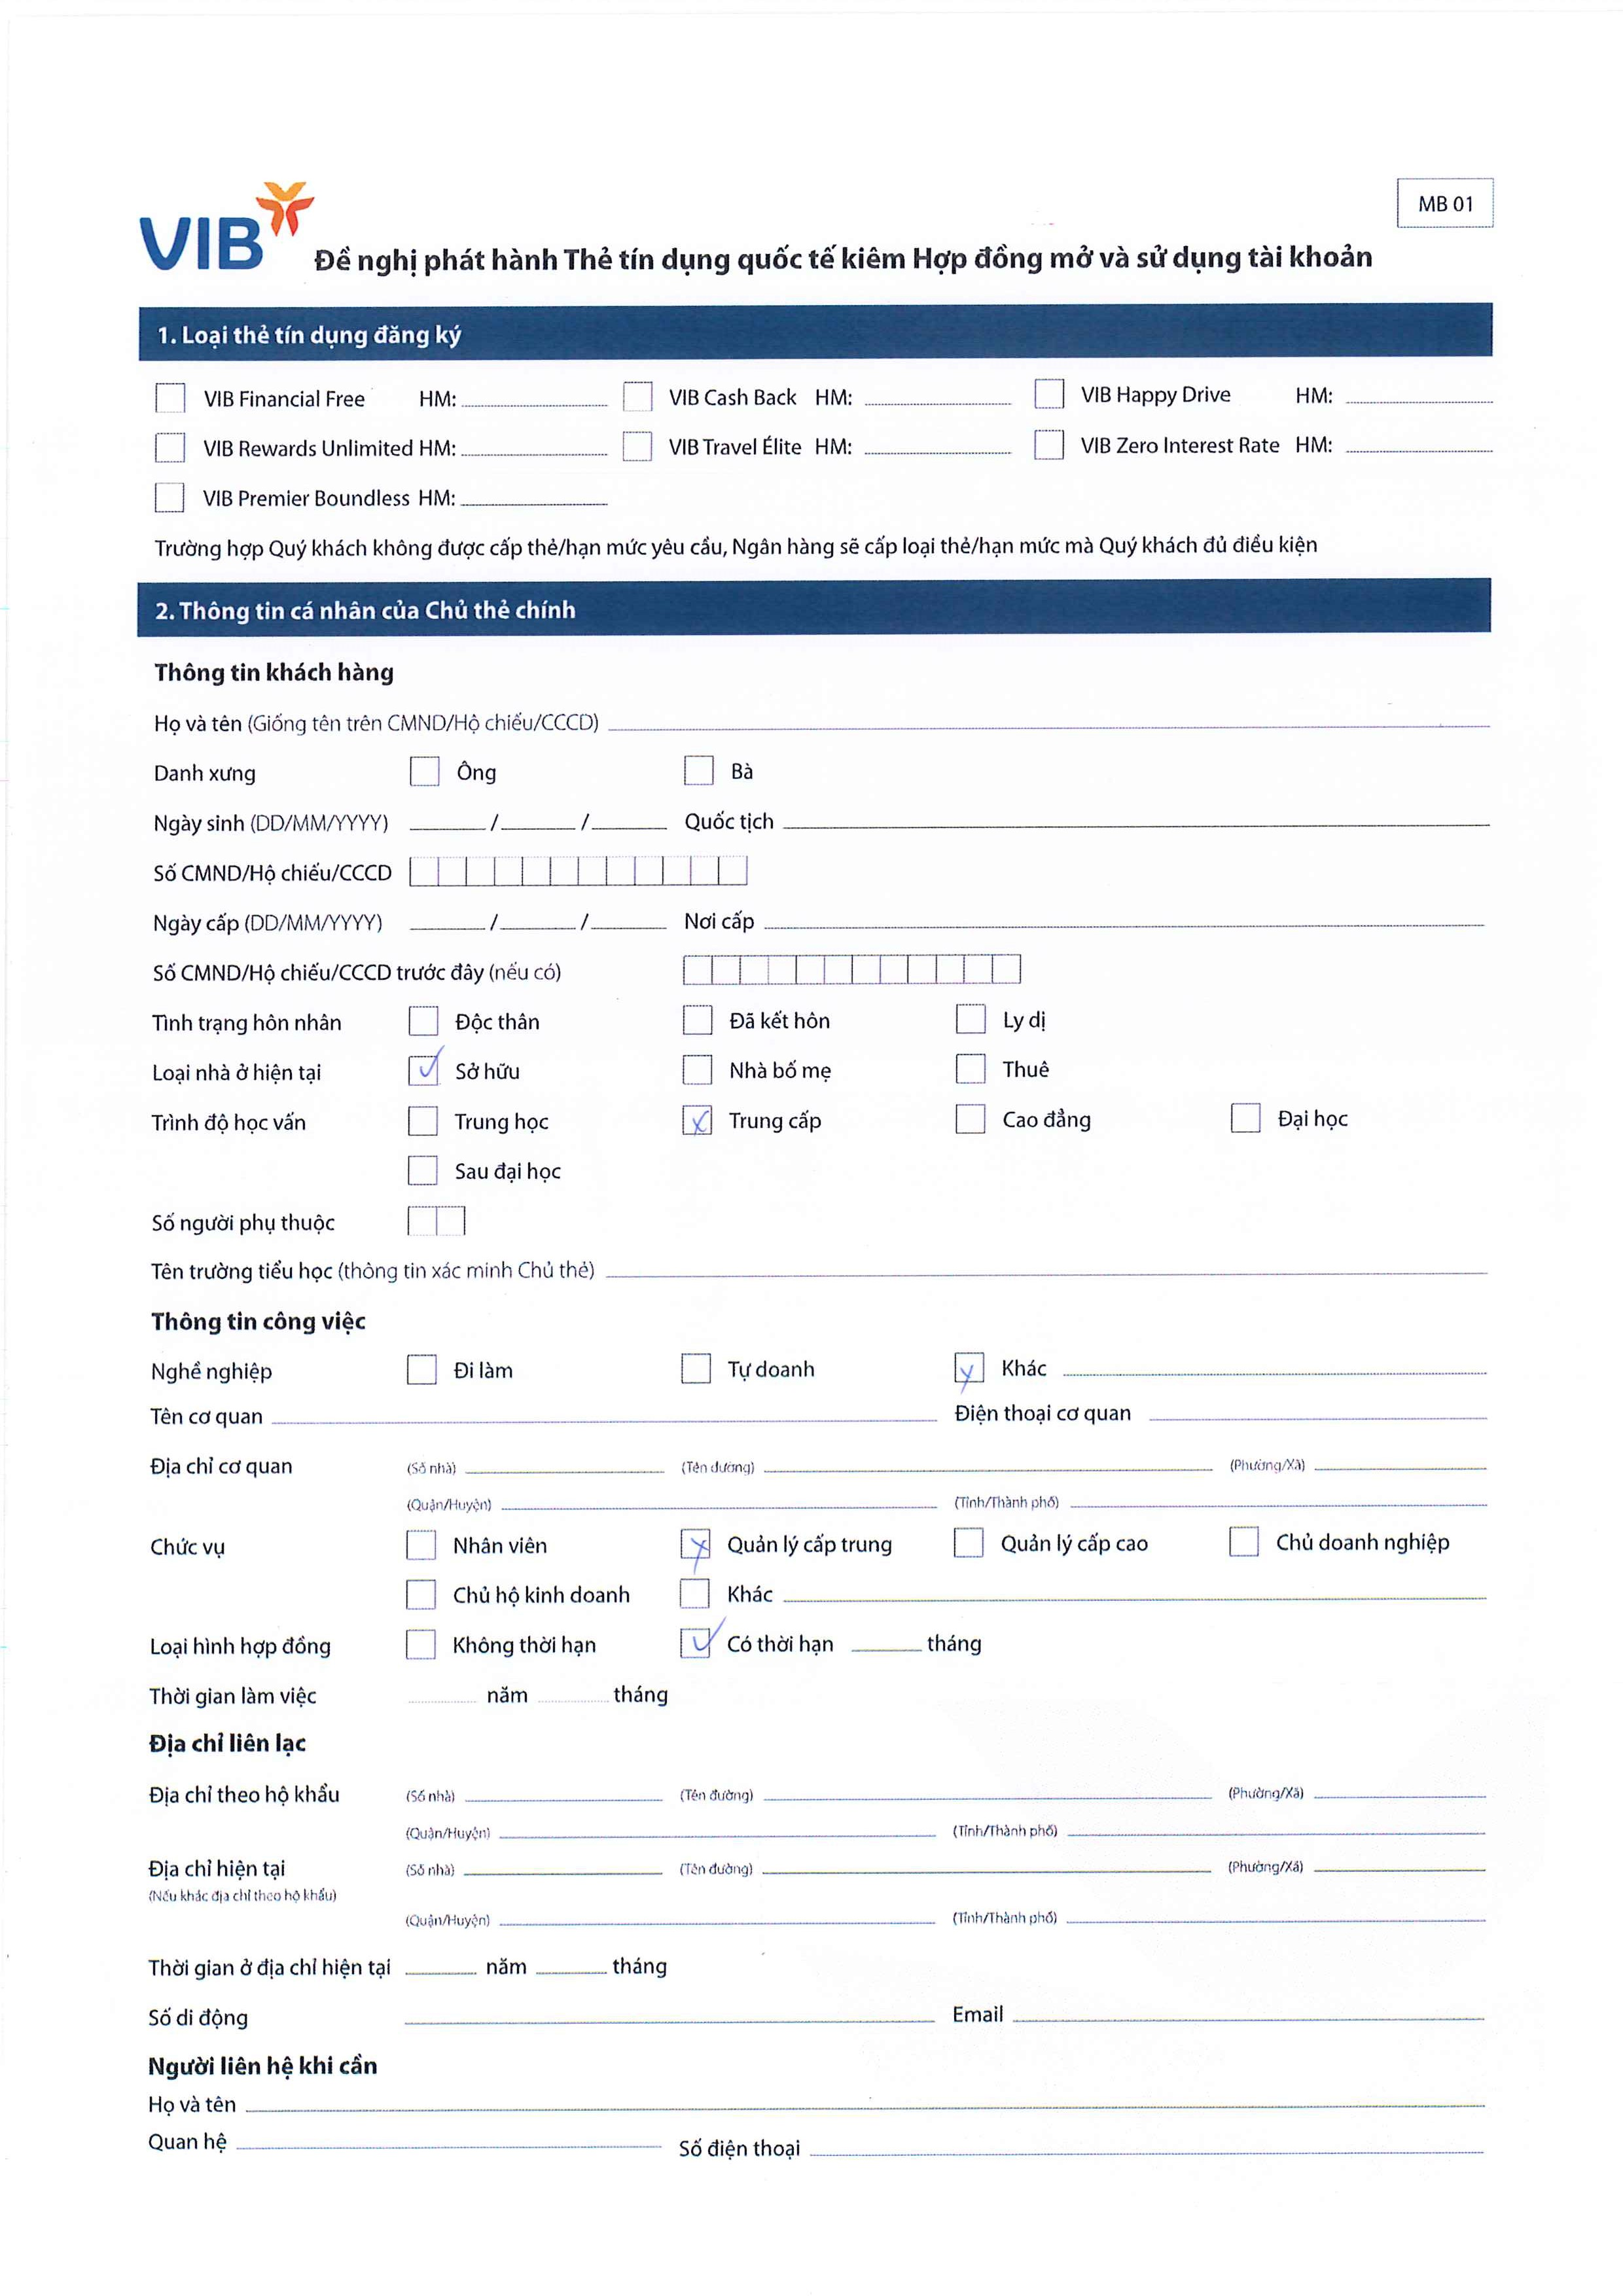box: (947, 1521, 991, 1563), (673, 1572, 713, 1618), (1224, 1521, 1266, 1563), (1029, 423, 1070, 467), (950, 1346, 991, 1390), (149, 425, 190, 467), (1228, 1098, 1268, 1140), (400, 1149, 443, 1189), (402, 1574, 443, 1616), (149, 476, 190, 516), (680, 750, 720, 791), (950, 1000, 991, 1040), (676, 1101, 717, 1142), (404, 1349, 444, 1390), (151, 376, 190, 418), (404, 1000, 443, 1042), (676, 1000, 718, 1038), (618, 376, 657, 416), (618, 427, 657, 467), (1029, 374, 1070, 413), (404, 750, 443, 791), (404, 1051, 443, 1091), (676, 1349, 715, 1390), (402, 1525, 441, 1565), (676, 1523, 717, 1562), (954, 1051, 992, 1089), (680, 1051, 718, 1089), (404, 1101, 443, 1140), (952, 1100, 991, 1138), (676, 1625, 715, 1664), (402, 1625, 441, 1664)
